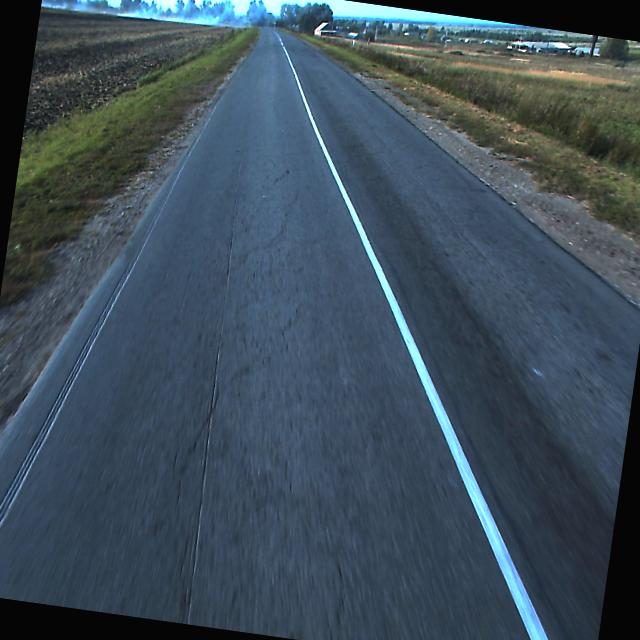road: (0, 27, 640, 640)
